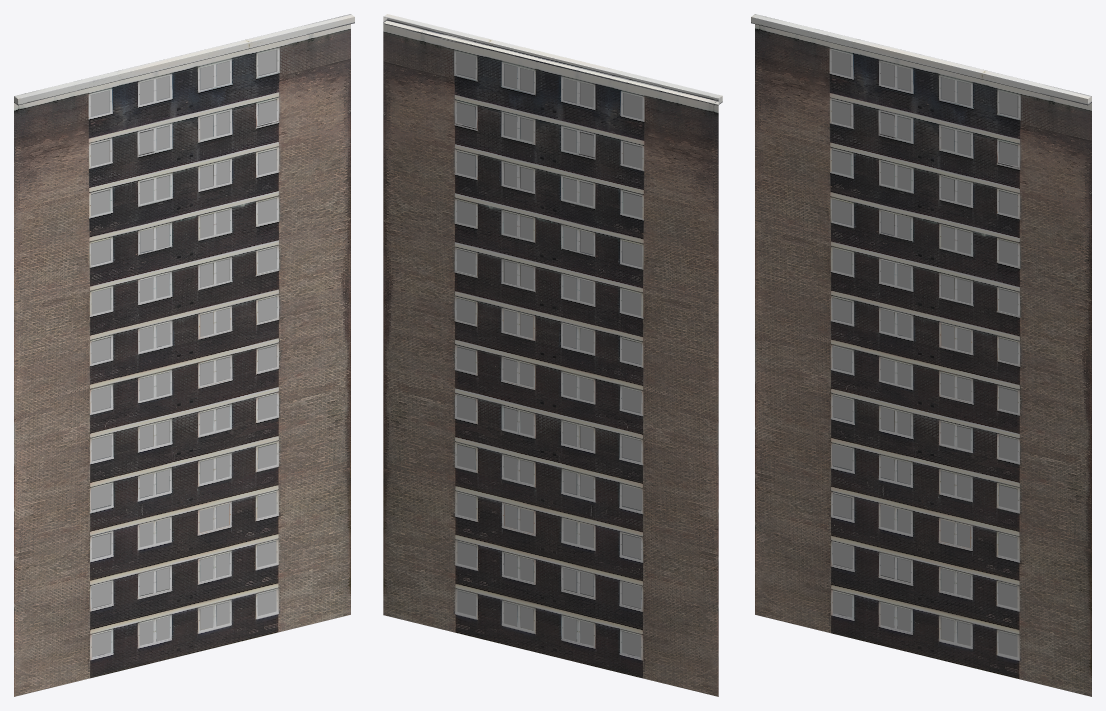
Rendered from apartment_block6.obj.
The picture shows the model from 3 angles, left to right: view 1: azimuth 30°, elevation 25°; view 2: azimuth 150°, elevation 25°; view 3: azimuth 330°, elevation 25°; orthographic projection.
Parts seen in each view (by area): view 1: apartment_block6; view 2: apartment_block6; view 3: apartment_block6.
Part boxes in pixels (left/top/right/bottom): apartment_block6: left=14, top=14, right=354, bottom=696; apartment_block6: left=383, top=14, right=722, bottom=696; apartment_block6: left=751, top=14, right=1091, bottom=696.
Size of the model in its own units: 2.93 by 5 by 0.0601.
